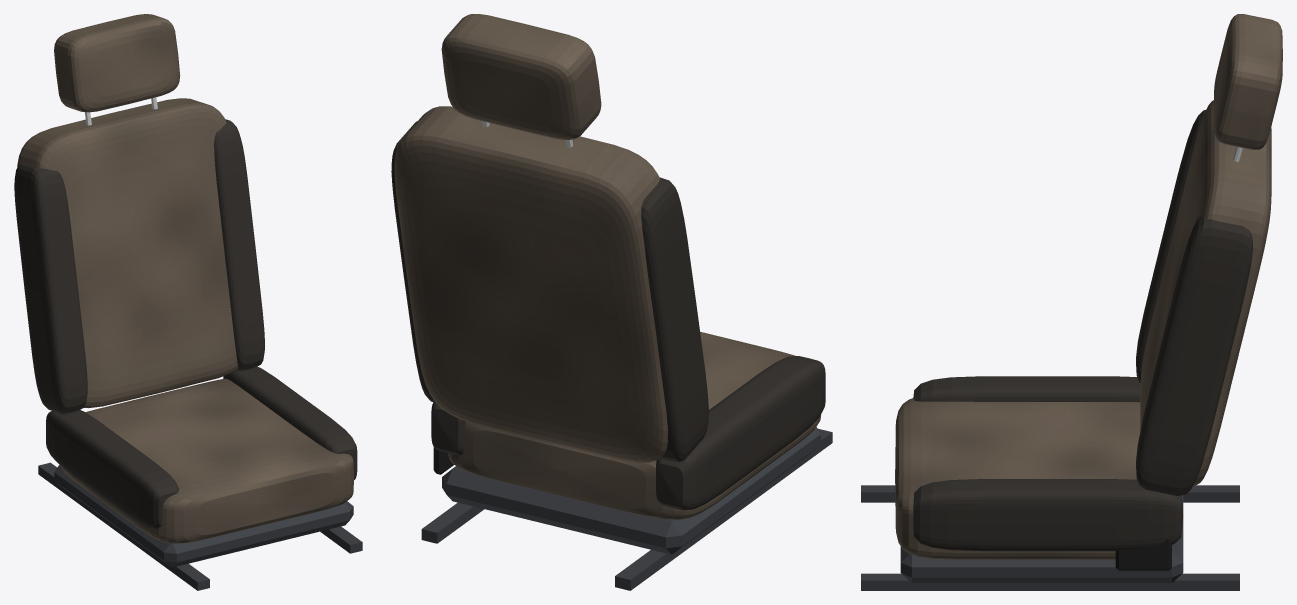
File: banco_dianteiro.glb
The picture shows the model from 3 angles, left to right: view 1: azimuth 30°, elevation 25°; view 2: azimuth 150°, elevation 25°; view 3: azimuth 270°, elevation 25°; orthographic projection. The views are drawn at different scales.
Parts seen in each view (by area): view 1: banco_dianteiro_tecido_banco, banco_dianteiro_vinil, banco_dianteiro_aco_escuro; view 2: banco_dianteiro_tecido_banco, banco_dianteiro_vinil, banco_dianteiro_aco_escuro; view 3: banco_dianteiro_vinil, banco_dianteiro_tecido_banco, banco_dianteiro_aco_escuro, banco_dianteiro_plastico_preto.
Boxes of the visible parts, left/top/right/bottom form: banco_dianteiro_tecido_banco: left=17, top=14, right=353, bottom=543; banco_dianteiro_vinil: left=14, top=119, right=357, bottom=528; banco_dianteiro_aco_escuro: left=38, top=462, right=362, bottom=590; banco_dianteiro_tecido_banco: left=394, top=14, right=821, bottom=519; banco_dianteiro_vinil: left=391, top=121, right=825, bottom=510; banco_dianteiro_aco_escuro: left=421, top=427, right=832, bottom=590; banco_dianteiro_vinil: left=913, top=110, right=1252, bottom=551; banco_dianteiro_tecido_banco: left=895, top=14, right=1282, bottom=559; banco_dianteiro_aco_escuro: left=861, top=485, right=1239, bottom=590; banco_dianteiro_plastico_preto: left=1115, top=539, right=1171, bottom=570.
Bounding box in the file's own units: 0.5098 × 0.9886 × 0.7459.
Materials: 5 (1 with a texture image).
